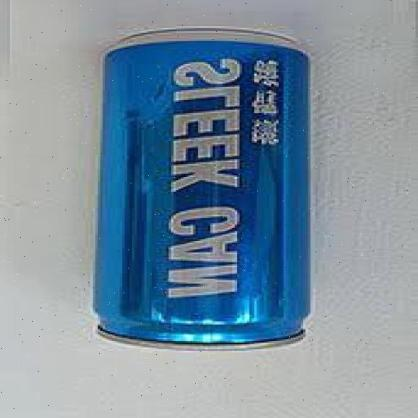can: (87, 26, 315, 354)
